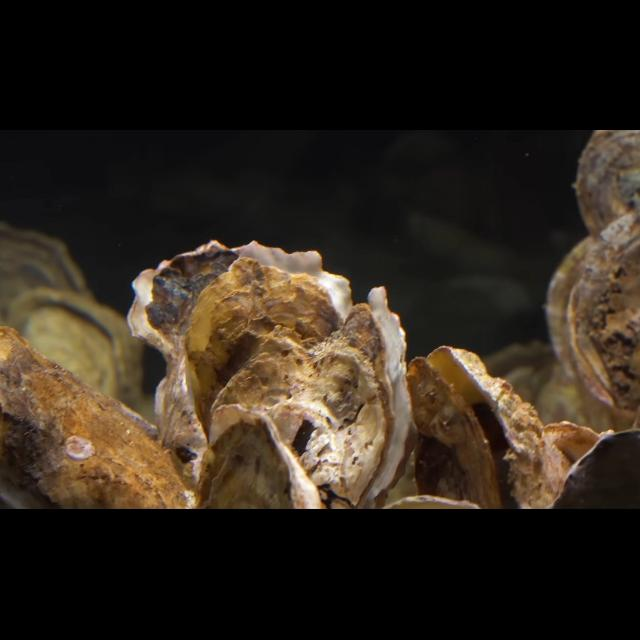Oyster-Closed: (210, 321, 388, 511), (180, 255, 344, 449), (542, 213, 640, 415), (0, 220, 94, 329), (572, 130, 640, 236)
Oyster-Open: (126, 238, 354, 492), (1, 326, 200, 510), (404, 347, 566, 511), (329, 285, 415, 511), (6, 286, 144, 414), (188, 400, 324, 510)
